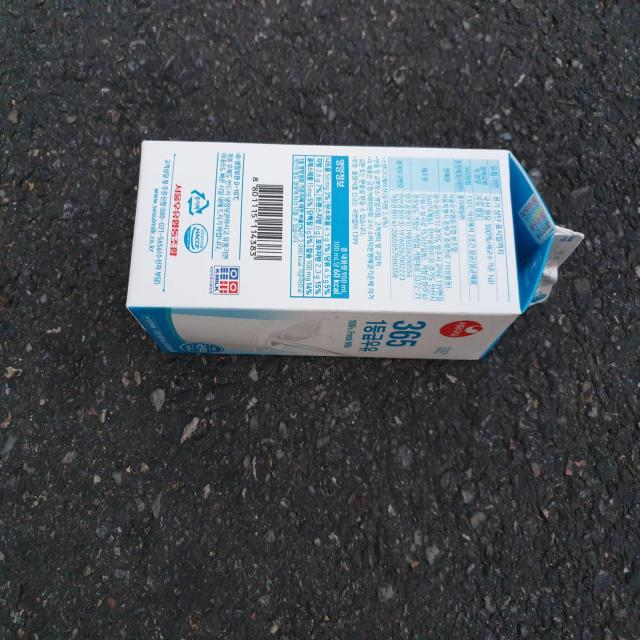paperpack: (126, 140, 584, 359)
